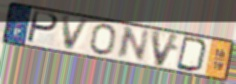D: (174, 35, 210, 74)
N: (114, 26, 152, 63)
O: (89, 23, 117, 57)
P: (25, 10, 60, 46)
V: (150, 28, 183, 69), (60, 15, 92, 52)
